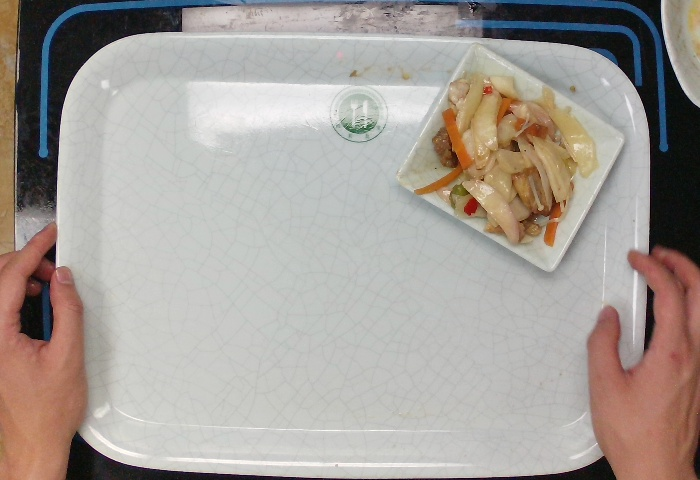WCQzf-Ru_Ci_Si_Fang_Die: (397, 39, 627, 273)
